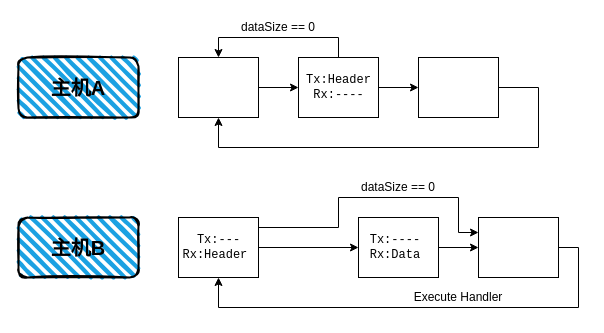
The diagram is 604 pixels wide and 333 high, and some of its shapes have lost their labels. Each missing label, with the centre of its shape:
"Tx:---- Rx:Idle" goes at point 518,247.
"Tx:Data Rx:----" goes at point 458,87.
"Tx:Idle Rx:----" goes at point 218,87.
